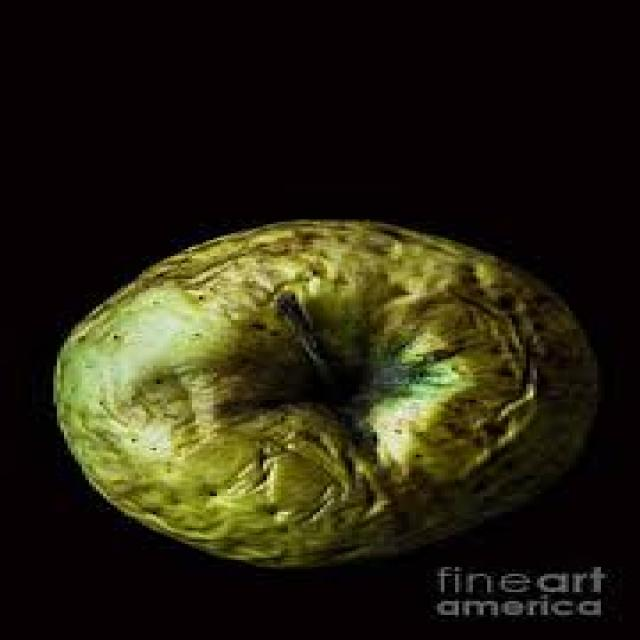biodegradable: (46, 215, 594, 564)
